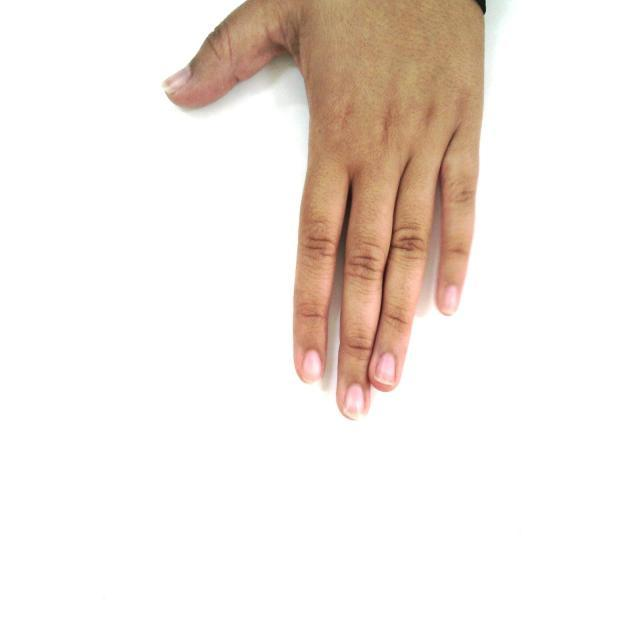Fingernail: (162, 65, 192, 96), (343, 384, 364, 420), (375, 353, 396, 386), (303, 349, 321, 383), (442, 286, 458, 314)
